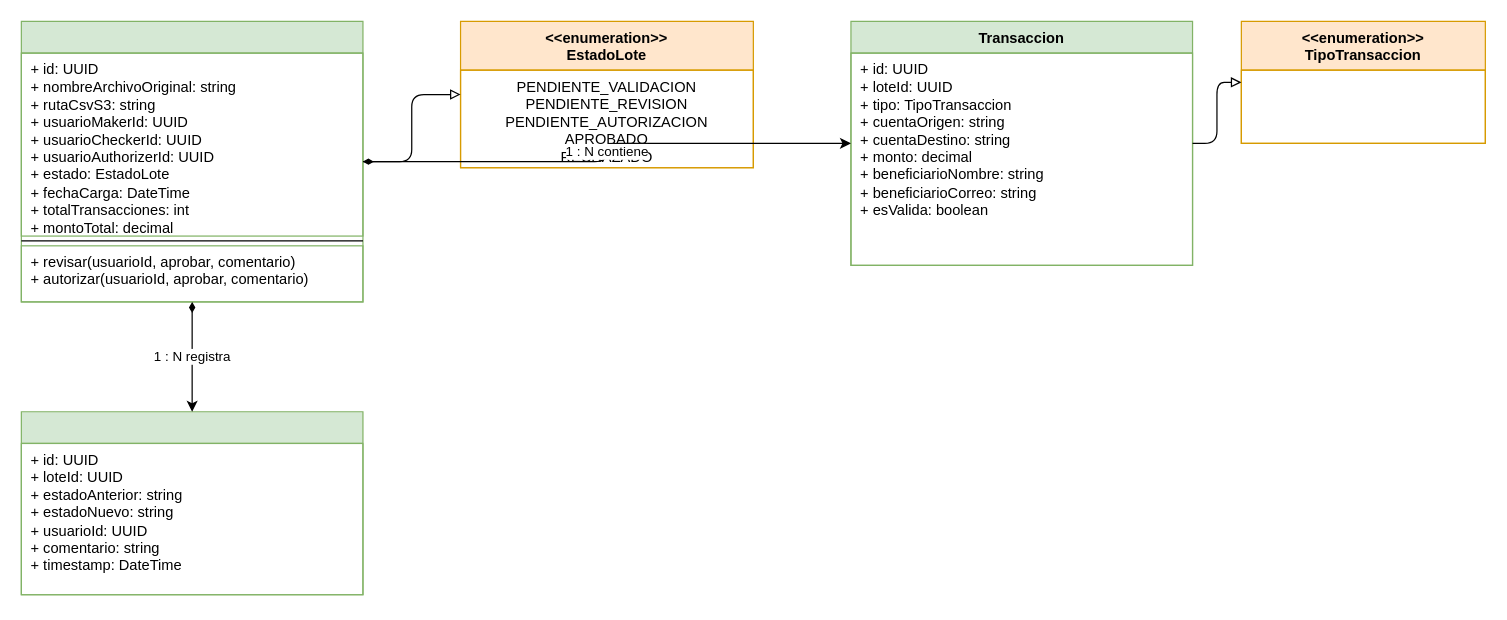
The diagram is 1507 pixels wide and 620 high, and some of its shapes have lost their labels. The shapes that lost their labels are listed below. From the top down, each one's box as (x1, y1, x2, y2) in pixels, then its label:
(1240, 69, 1485, 143): TRANSFERENCIA PAGO DEPOSITO
(20, 20, 363, 302): LoteTransacciones
(20, 411, 363, 595): HistorialEstadoLote
